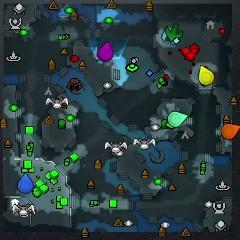p1: (17, 172, 34, 194)
p2: (168, 111, 188, 127)
p3: (97, 41, 114, 63)
p4: (198, 65, 215, 86)
p5: (222, 124, 240, 139)
x3: (162, 26, 180, 45)
x4: (165, 23, 183, 41)
